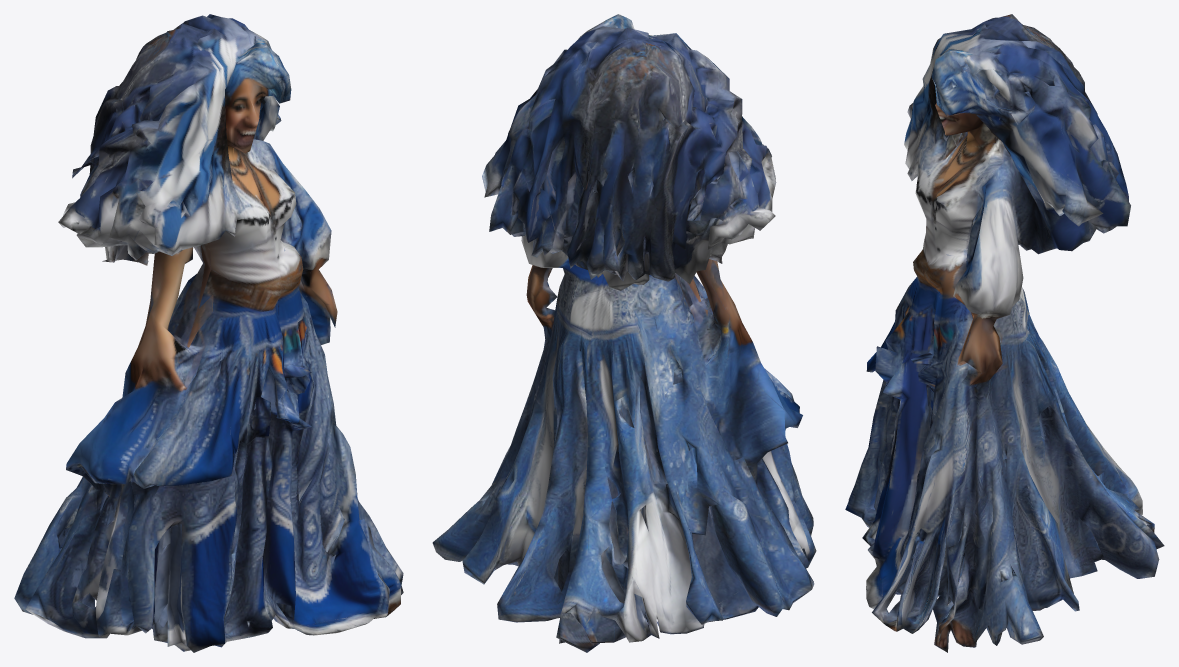
The model's file is Meshy_AI_a_beautiful_black_wom_0309174421_texture.fbx.
3 views of the same model, side by side, from view 1: azimuth 30°, elevation 25°; view 2: azimuth 150°, elevation 25°; view 3: azimuth 270°, elevation 25° (orthographic). The views are drawn at different scales.
Parts seen in each view (by area): view 1: Mesh_0; view 2: Mesh_0; view 3: Mesh_0.
Part boxes in pixels (box(x1,y1,x2,y2)): Mesh_0: box(14, 14, 403, 652); Mesh_0: box(432, 14, 816, 652); Mesh_0: box(845, 14, 1164, 652).
Size of the model in its own units: 128 by 200 by 102.
1 material, 1 textured.
